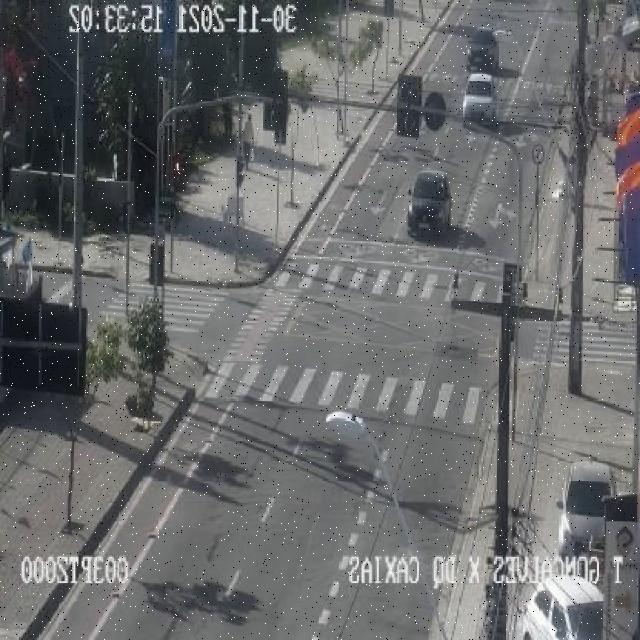car: (0, 298, 86, 393), (409, 170, 484, 247), (521, 578, 602, 640), (560, 462, 611, 555), (464, 72, 494, 122), (468, 29, 498, 74)
road-signs: (396, 75, 445, 137), (424, 92, 446, 129)
traffic-lights: (234, 100, 245, 272), (264, 69, 288, 143), (149, 240, 165, 297), (239, 38, 243, 88)
